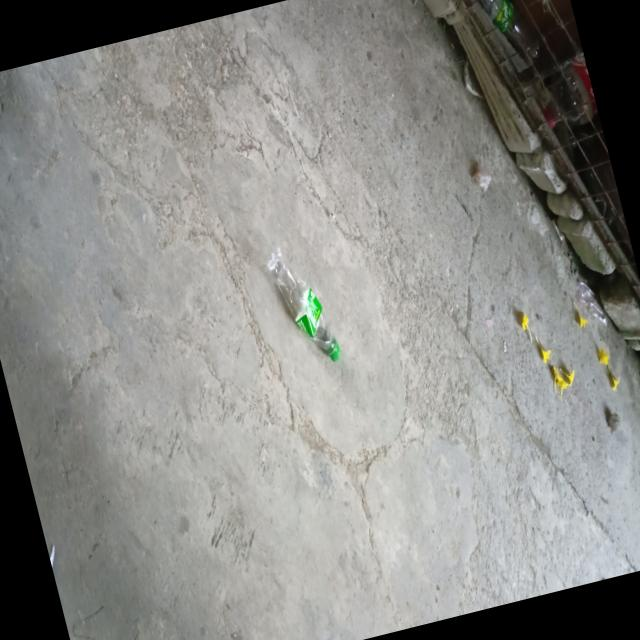Bottle: (267, 247, 340, 360)
